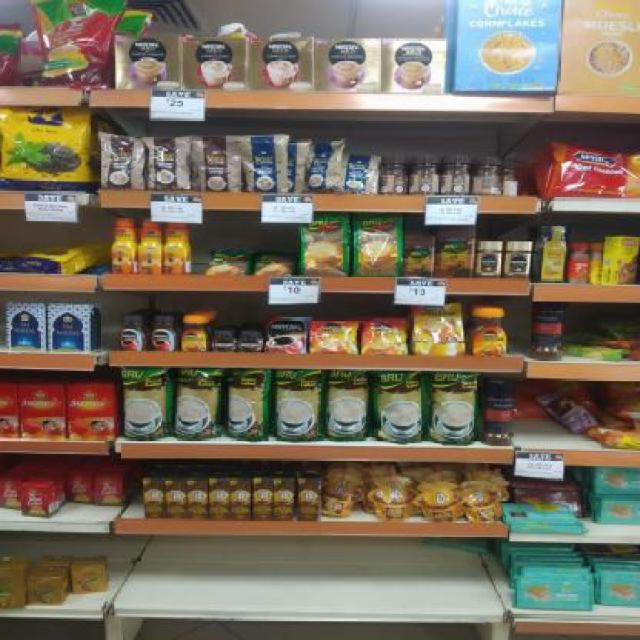Coffee: (416, 303, 464, 354), (470, 309, 505, 356), (309, 321, 356, 354), (363, 320, 406, 354), (266, 316, 306, 352), (164, 222, 190, 273), (140, 218, 163, 274), (114, 218, 134, 274), (118, 317, 147, 351), (150, 317, 178, 351), (182, 317, 210, 351), (477, 241, 501, 276), (509, 241, 531, 277), (212, 329, 237, 351), (239, 330, 263, 352)
